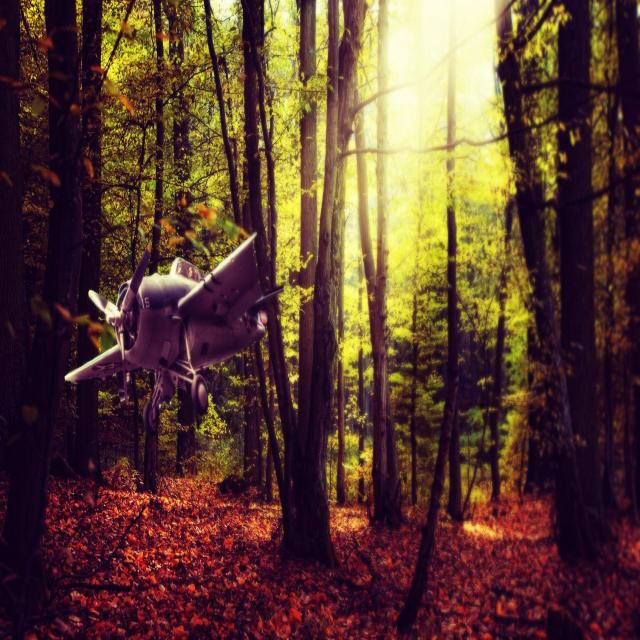airplane: (63, 229, 284, 437)
